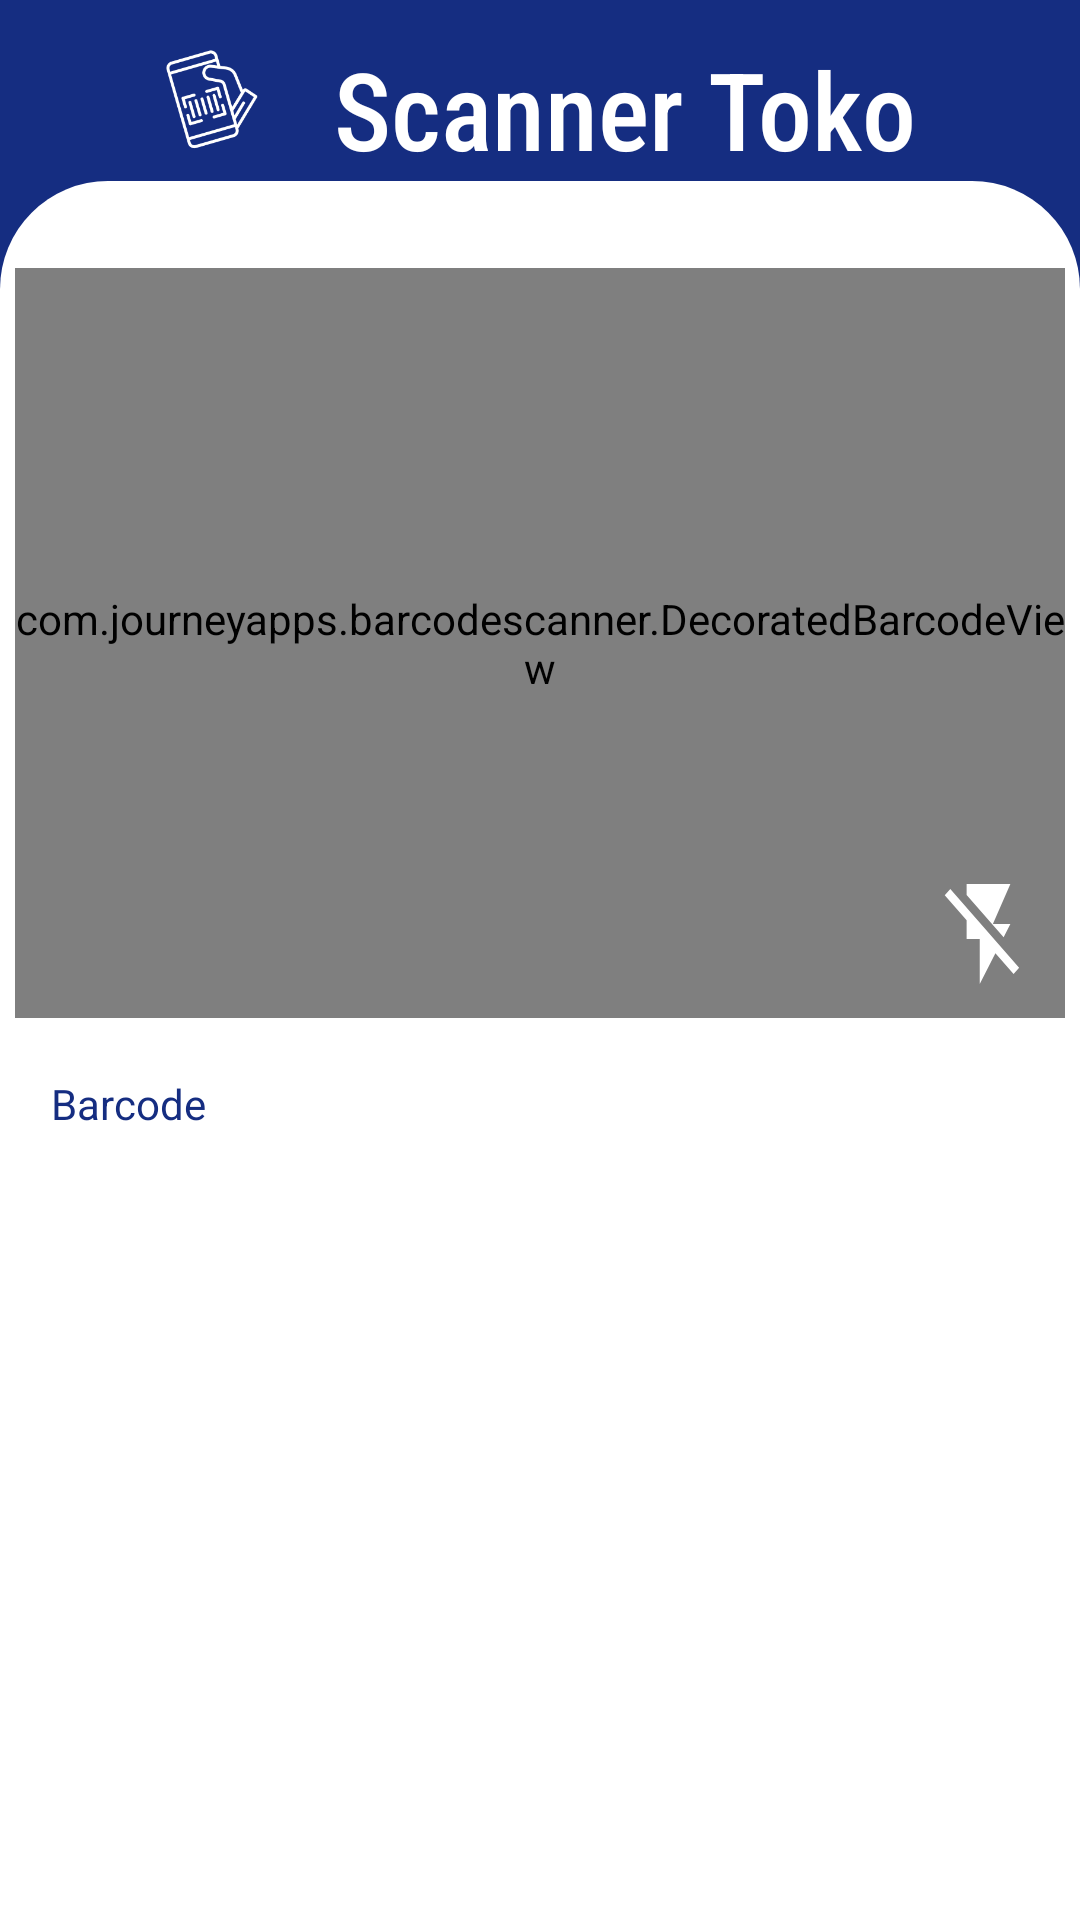

Named icons in this screenshot (1080x1920) and their centers, (x,y):
flash off: (982,933)
